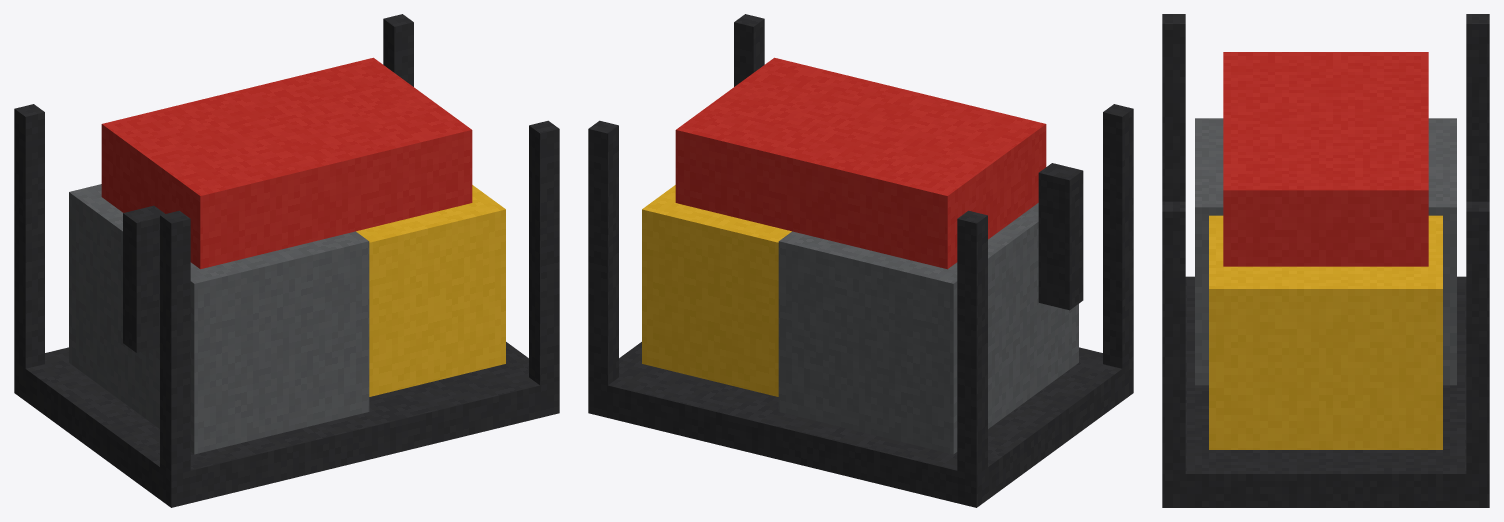
Rendered from generator.glb.
3 renders of one model, left to right at view 1: azimuth 30°, elevation 25°; view 2: azimuth 150°, elevation 25°; view 3: azimuth 270°, elevation 25°, orthographic. The views are drawn at different scales.
Parts seen in each view (by area): view 1: generator; view 2: generator; view 3: generator.
Boxes of the visible parts, x1,y1,x2,y2 form: generator: [14, 14, 559, 507]; generator: [588, 14, 1133, 507]; generator: [1162, 14, 1489, 507].
Bounding box in the file's own units: 1 × 0.7 × 0.7.
4 materials, 4 textured.
